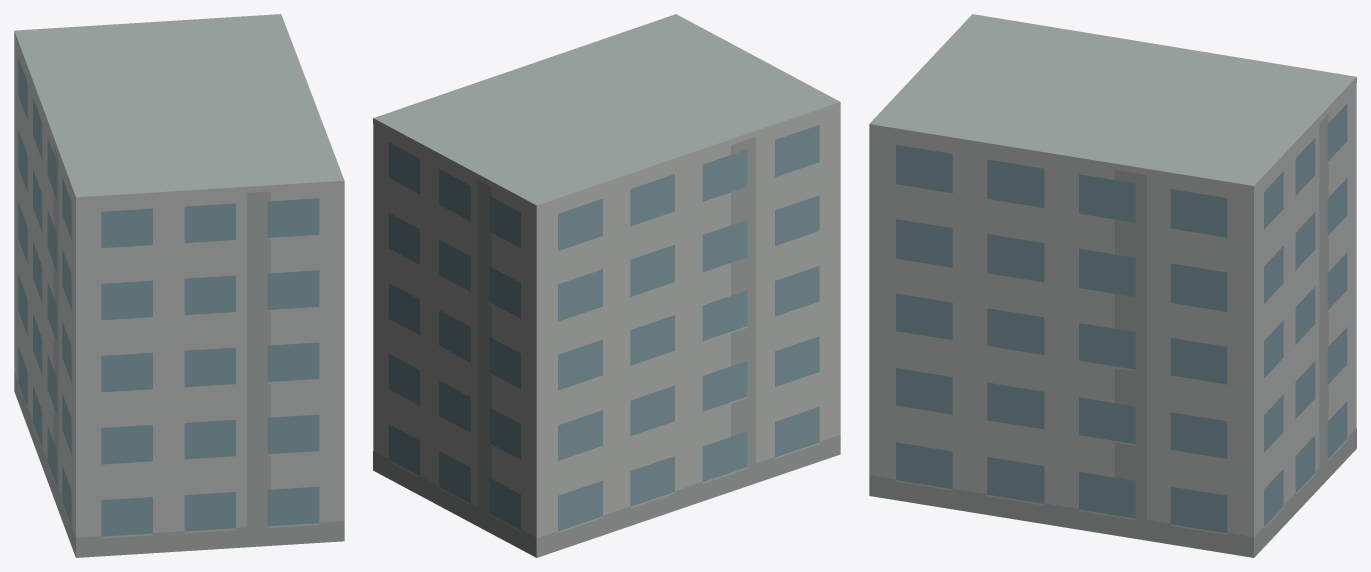
Rendered from survey-upis-32869787.glb.
The picture shows the model from 3 angles, left to right: view 1: azimuth 30°, elevation 25°; view 2: azimuth 150°, elevation 25°; view 3: azimuth 270°, elevation 25°; orthographic projection. The views are drawn at different scales.
Visible parts, largest first — view 1: survey-upis-32869787.tmp; view 2: survey-upis-32869787.tmp; view 3: survey-upis-32869787.tmp.
Boxes of the visible parts, x1,y1,x2,y2 form: survey-upis-32869787.tmp: (14,14,344,557); survey-upis-32869787.tmp: (373,14,840,557); survey-upis-32869787.tmp: (869,14,1356,557).
Bounding box in the file's own units: 14.29 × 14.4 × 17.12.
